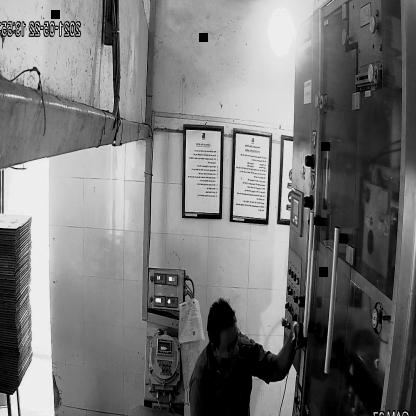goggles: (212, 326, 241, 356)
